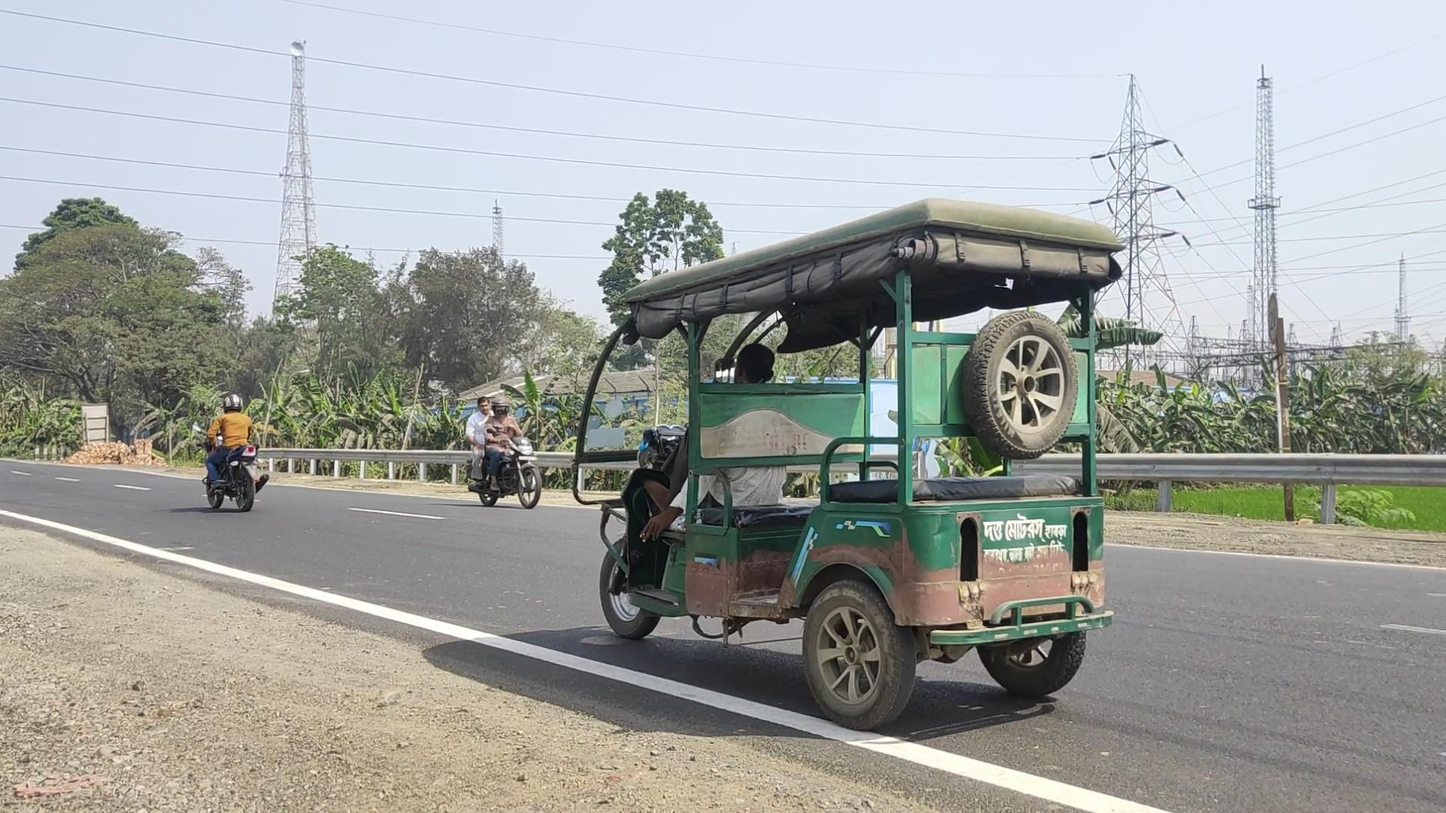Auto: (572, 197, 1127, 732)
bike: (193, 394, 270, 513), (466, 395, 541, 509)
